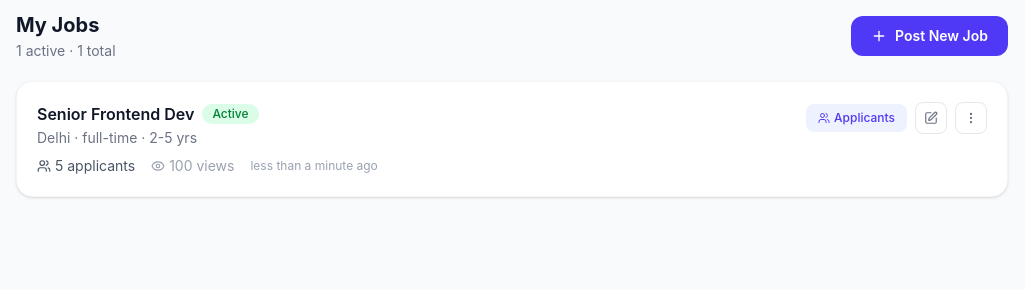
Test: MyJobs › opens dropdown menu when MoreVertical button is clicked
Expected: the heading "Senior Frontend Dev" is shown, [37,102,194,126]
Click the button.
click(971, 118)  # box [955,102,987,134]
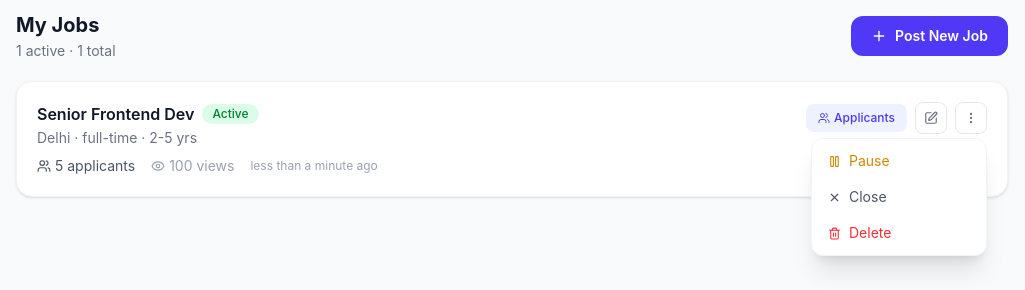
Now the button "Pause" is shown, box [812,143,986,179]
